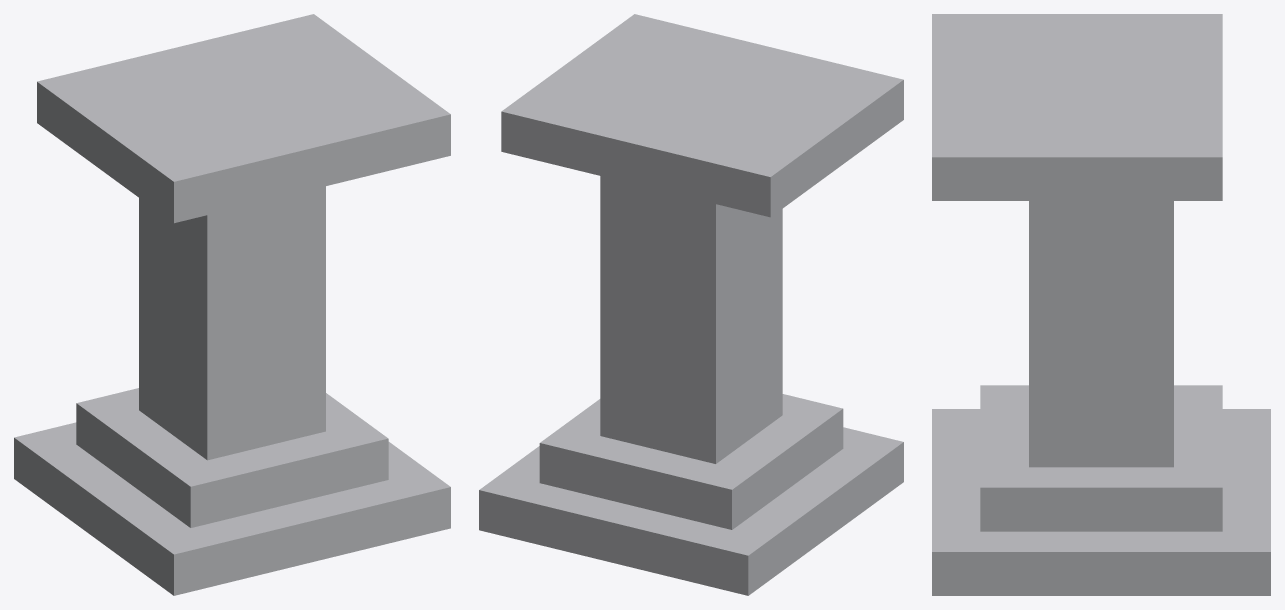
File: altar_d_a.obj
3 renders of one model, left to right at view 1: azimuth 30°, elevation 25°; view 2: azimuth 150°, elevation 25°; view 3: azimuth 270°, elevation 25°, orthographic. The views are drawn at different scales.
Size of the model in its own units: 0.7 by 1 by 0.7.
Materials: 1 (1 with a texture image).
